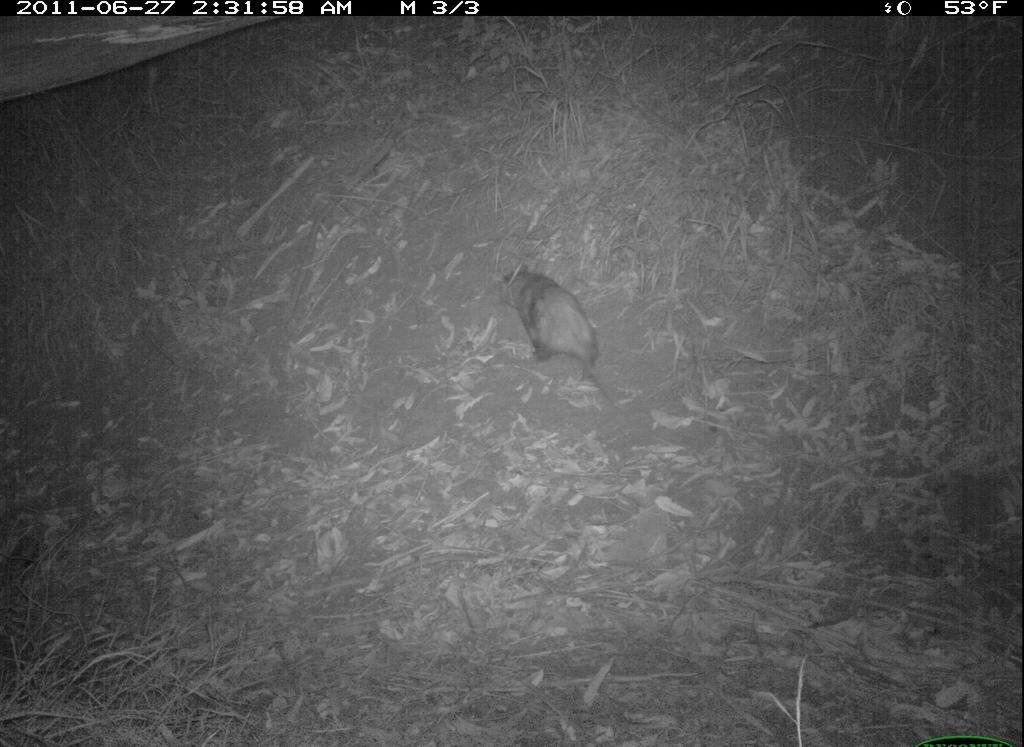opossum: (488, 260, 624, 418)
